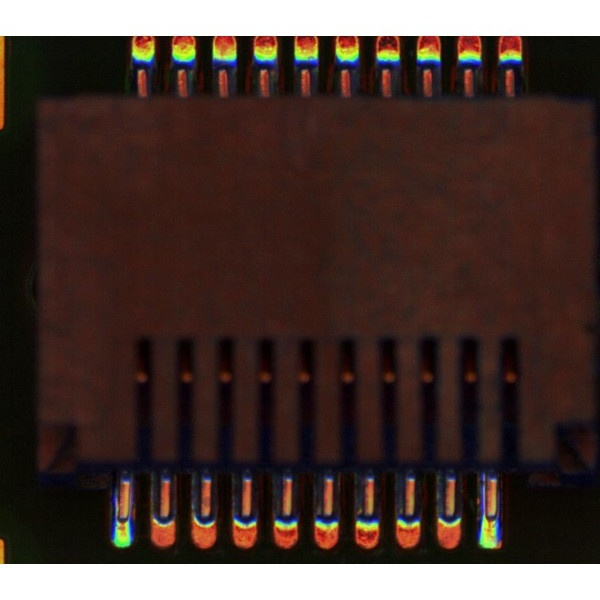Bad_qiaojiao: (479, 473, 487, 514), (114, 482, 119, 519)
